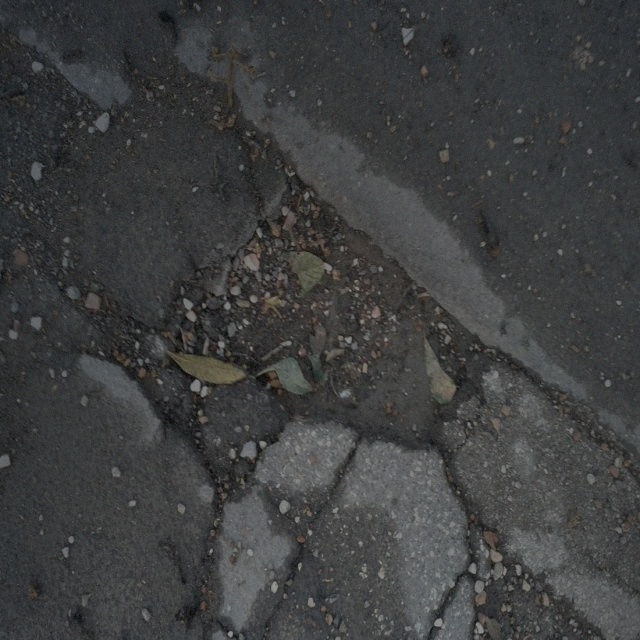pothole: (209, 162, 488, 476)
